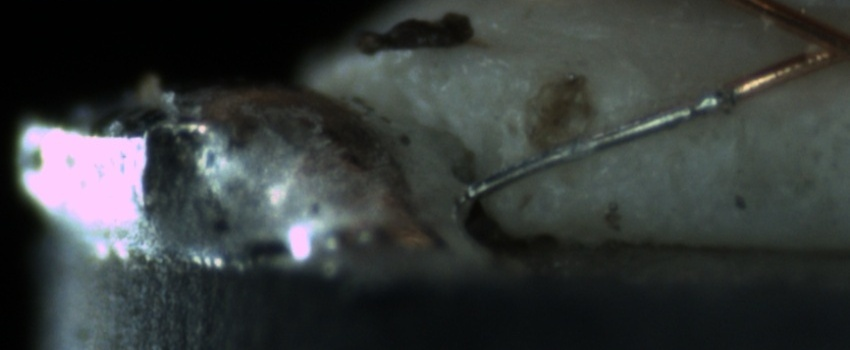CL: (777, 11, 847, 77)
TS: (455, 85, 716, 200)
TTCW: (449, 57, 808, 199)
